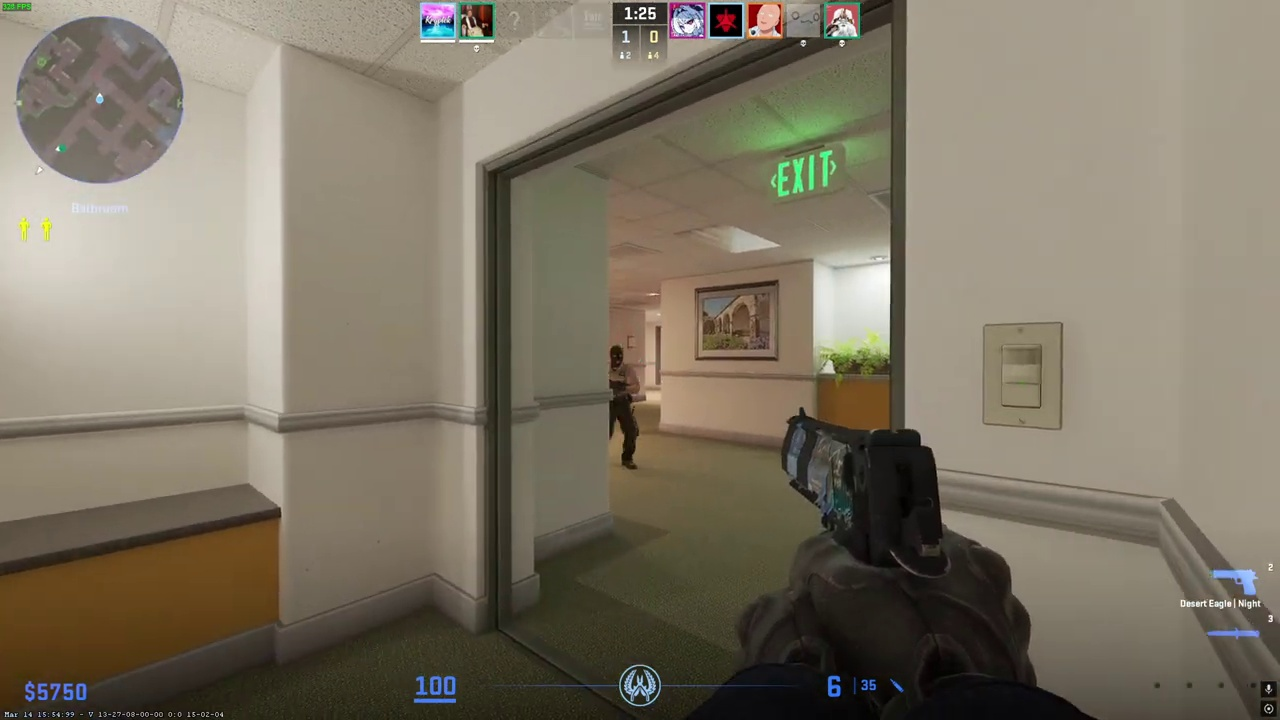Terrorist: (604, 344, 640, 470)
